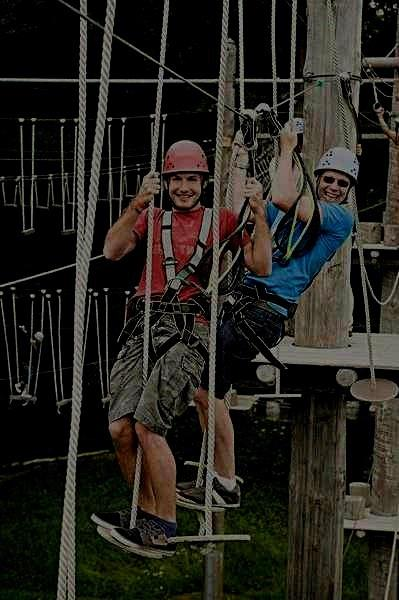helmet: (161, 139, 209, 209), (313, 145, 359, 204)
